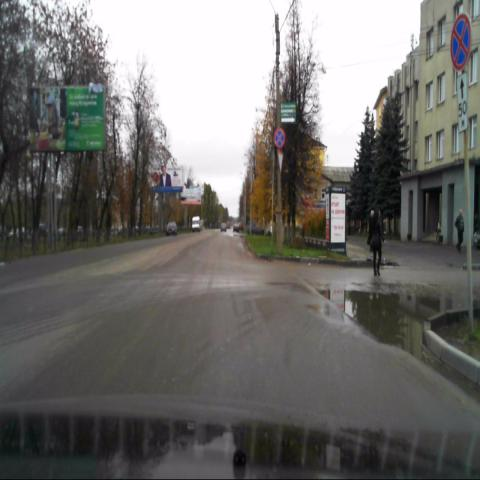8_2_2: (456, 73, 468, 133)
